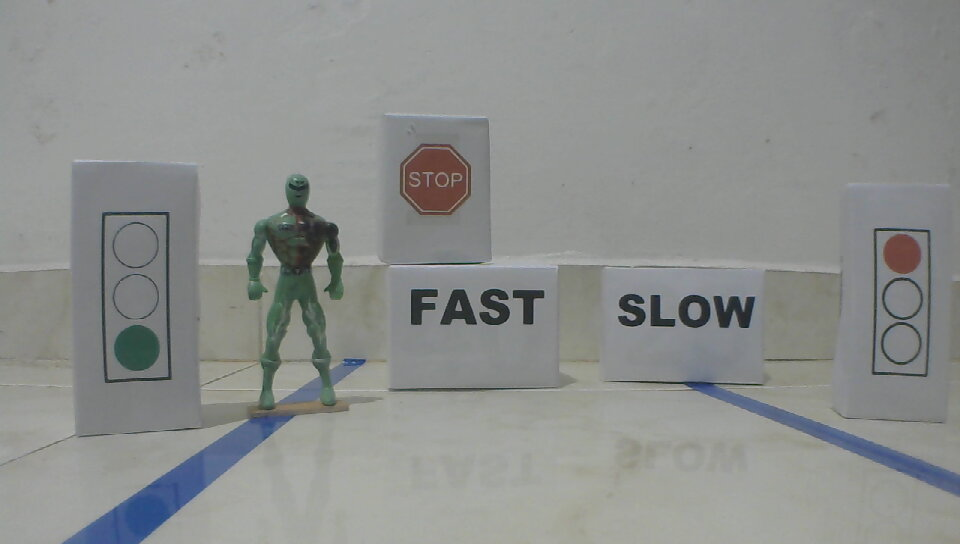Fast: (408, 287, 547, 329)
Green Traffic Light: (98, 210, 173, 387)
Person: (241, 169, 349, 411)
Red Traffic Light: (871, 225, 934, 380)
Slow: (615, 290, 758, 331)
Stop Sign: (398, 143, 473, 216)
